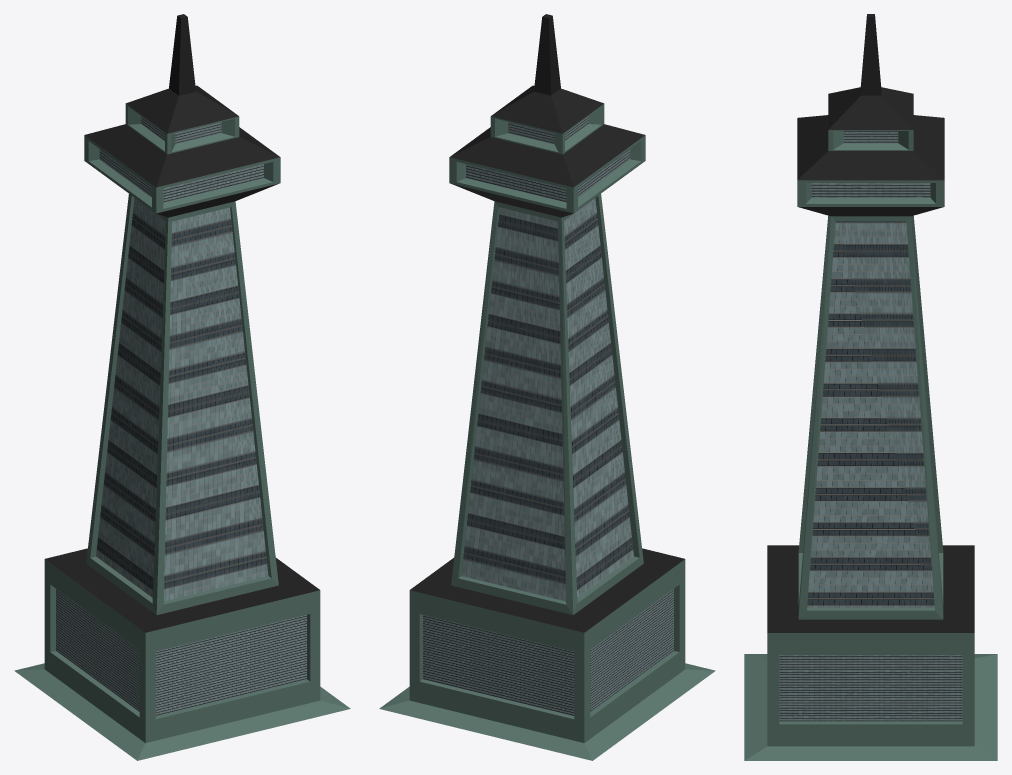
The model's file is building_2.obj.
3 renders of one model, left to right at view 1: azimuth 30°, elevation 25°; view 2: azimuth 150°, elevation 25°; view 3: azimuth 270°, elevation 25°, orthographic. The views are drawn at different scales.
Parts seen in each view (by area): view 1: Building2; view 2: Building2; view 3: Building2.
Boxes of the visible parts, <box> form: Building2: <box>14,14,350,760</box>; Building2: <box>379,14,715,760</box>; Building2: <box>744,14,997,760</box>.
Size of the model in its own units: 2 by 6.02 by 2.
